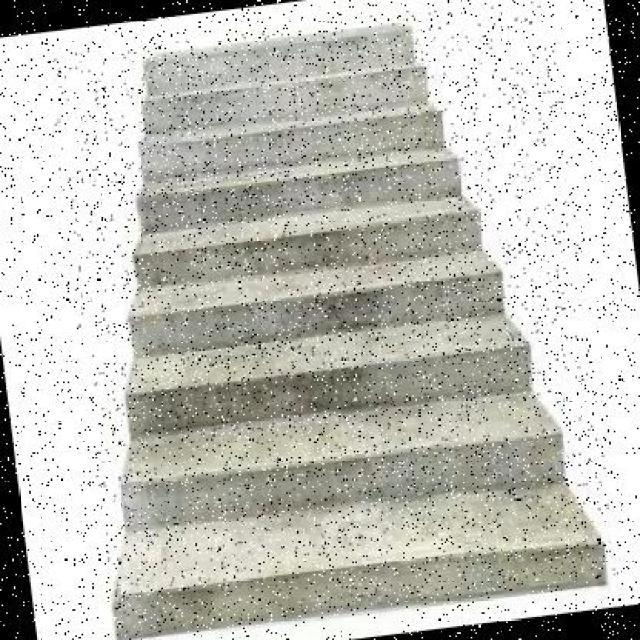Stairs: (98, 45, 614, 607)
